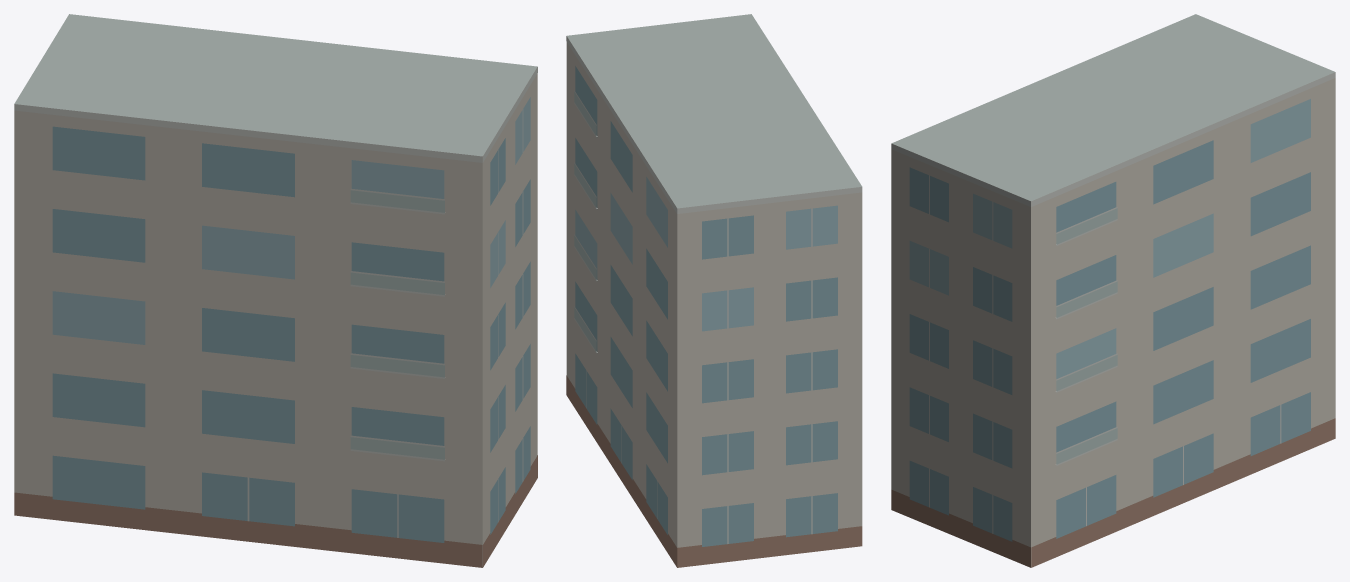
File: survey-upis-32992198.glb
The picture shows the model from 3 angles, left to right: view 1: azimuth 30°, elevation 25°; view 2: azimuth 150°, elevation 25°; view 3: azimuth 270°, elevation 25°; orthographic projection. The views are drawn at different scales.
Visible parts, largest first — view 1: survey-upis-32992198.tmp; view 2: survey-upis-32992198.tmp; view 3: survey-upis-32992198.tmp.
Part boxes in pixels (x1=…): survey-upis-32992198.tmp: x1=14, y1=14, x2=537, y2=567; survey-upis-32992198.tmp: x1=566, y1=14, x2=862, y2=567; survey-upis-32992198.tmp: x1=891, y1=14, x2=1335, y2=567.
Size of the model in its own units: 17 by 15.5 by 17.04.
